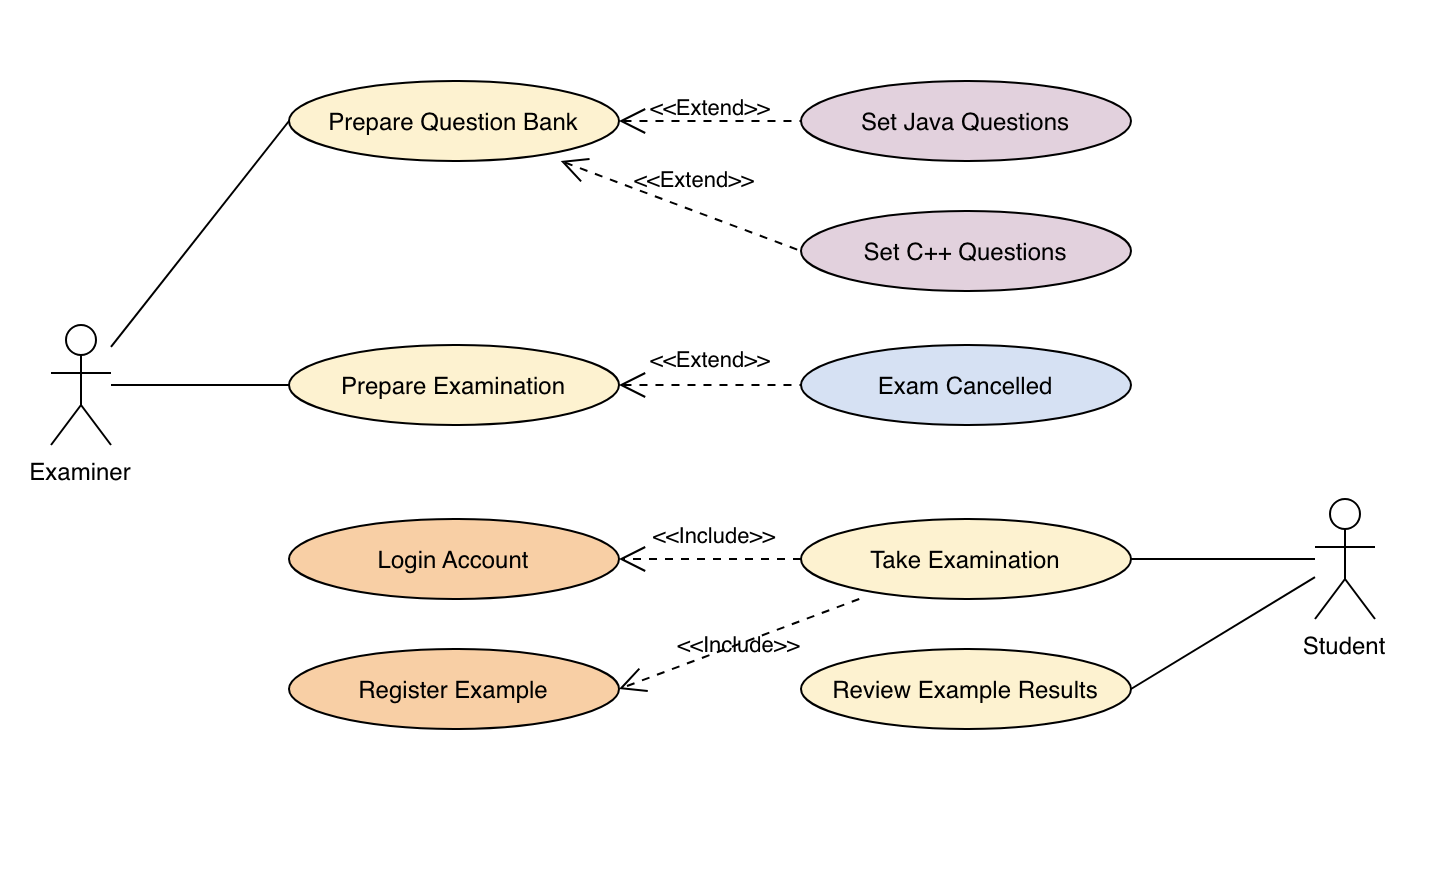actor: (45, 320, 119, 449), (1314, 495, 1377, 629)
association: (109, 119, 289, 349), (621, 593, 860, 696), (559, 156, 798, 250), (1132, 572, 1315, 689), (621, 369, 801, 408), (621, 101, 797, 138), (619, 543, 799, 576), (1130, 545, 1314, 574), (110, 375, 286, 393)
text: (826, 672, 1102, 708), (324, 104, 581, 139), (857, 104, 1075, 141), (855, 234, 1073, 270), (345, 671, 552, 709), (872, 365, 1063, 404), (338, 371, 573, 403), (866, 542, 1065, 575), (372, 546, 536, 577), (23, 456, 134, 495), (674, 632, 807, 662), (643, 348, 777, 375), (652, 524, 777, 549), (629, 167, 756, 192), (1298, 630, 1395, 662), (650, 96, 777, 118)
use_case: (283, 515, 622, 603), (795, 644, 1136, 731), (287, 342, 620, 430), (287, 645, 623, 733), (803, 515, 1135, 603), (796, 78, 1135, 164), (797, 208, 1135, 294), (287, 78, 619, 165), (797, 342, 1134, 427)
